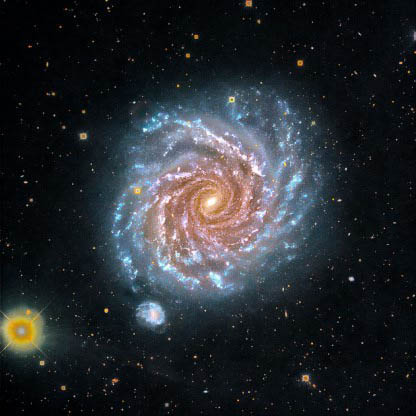NGC 1232: (80, 67, 356, 335)
